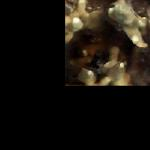alive: (65, 1, 149, 84)
